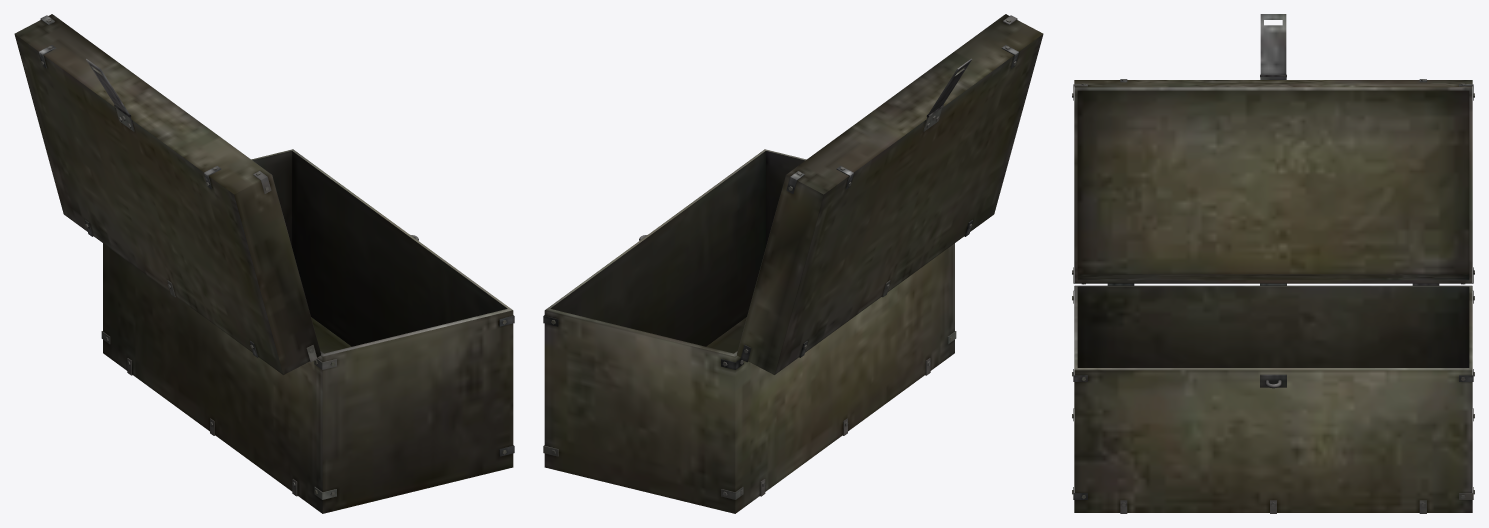
The model's file is footlocker01_open.glb.
3 views of the same model, side by side, from view 1: azimuth 30°, elevation 25°; view 2: azimuth 150°, elevation 25°; view 3: azimuth 270°, elevation 25° (orthographic). The views are drawn at different scales.
Visible parts, largest first — view 1: 0_FootLocker01_Open; view 2: 0_FootLocker01_Open; view 3: 0_FootLocker01_Open.
Boxes of the visible parts, x1,y1,x2,y2 form: 0_FootLocker01_Open: (14, 14, 514, 513); 0_FootLocker01_Open: (543, 14, 1043, 513); 0_FootLocker01_Open: (1072, 14, 1474, 513).
Size of the model in its own units: 1.04 by 1.23 by 1.23.
1 material, 1 textured.
